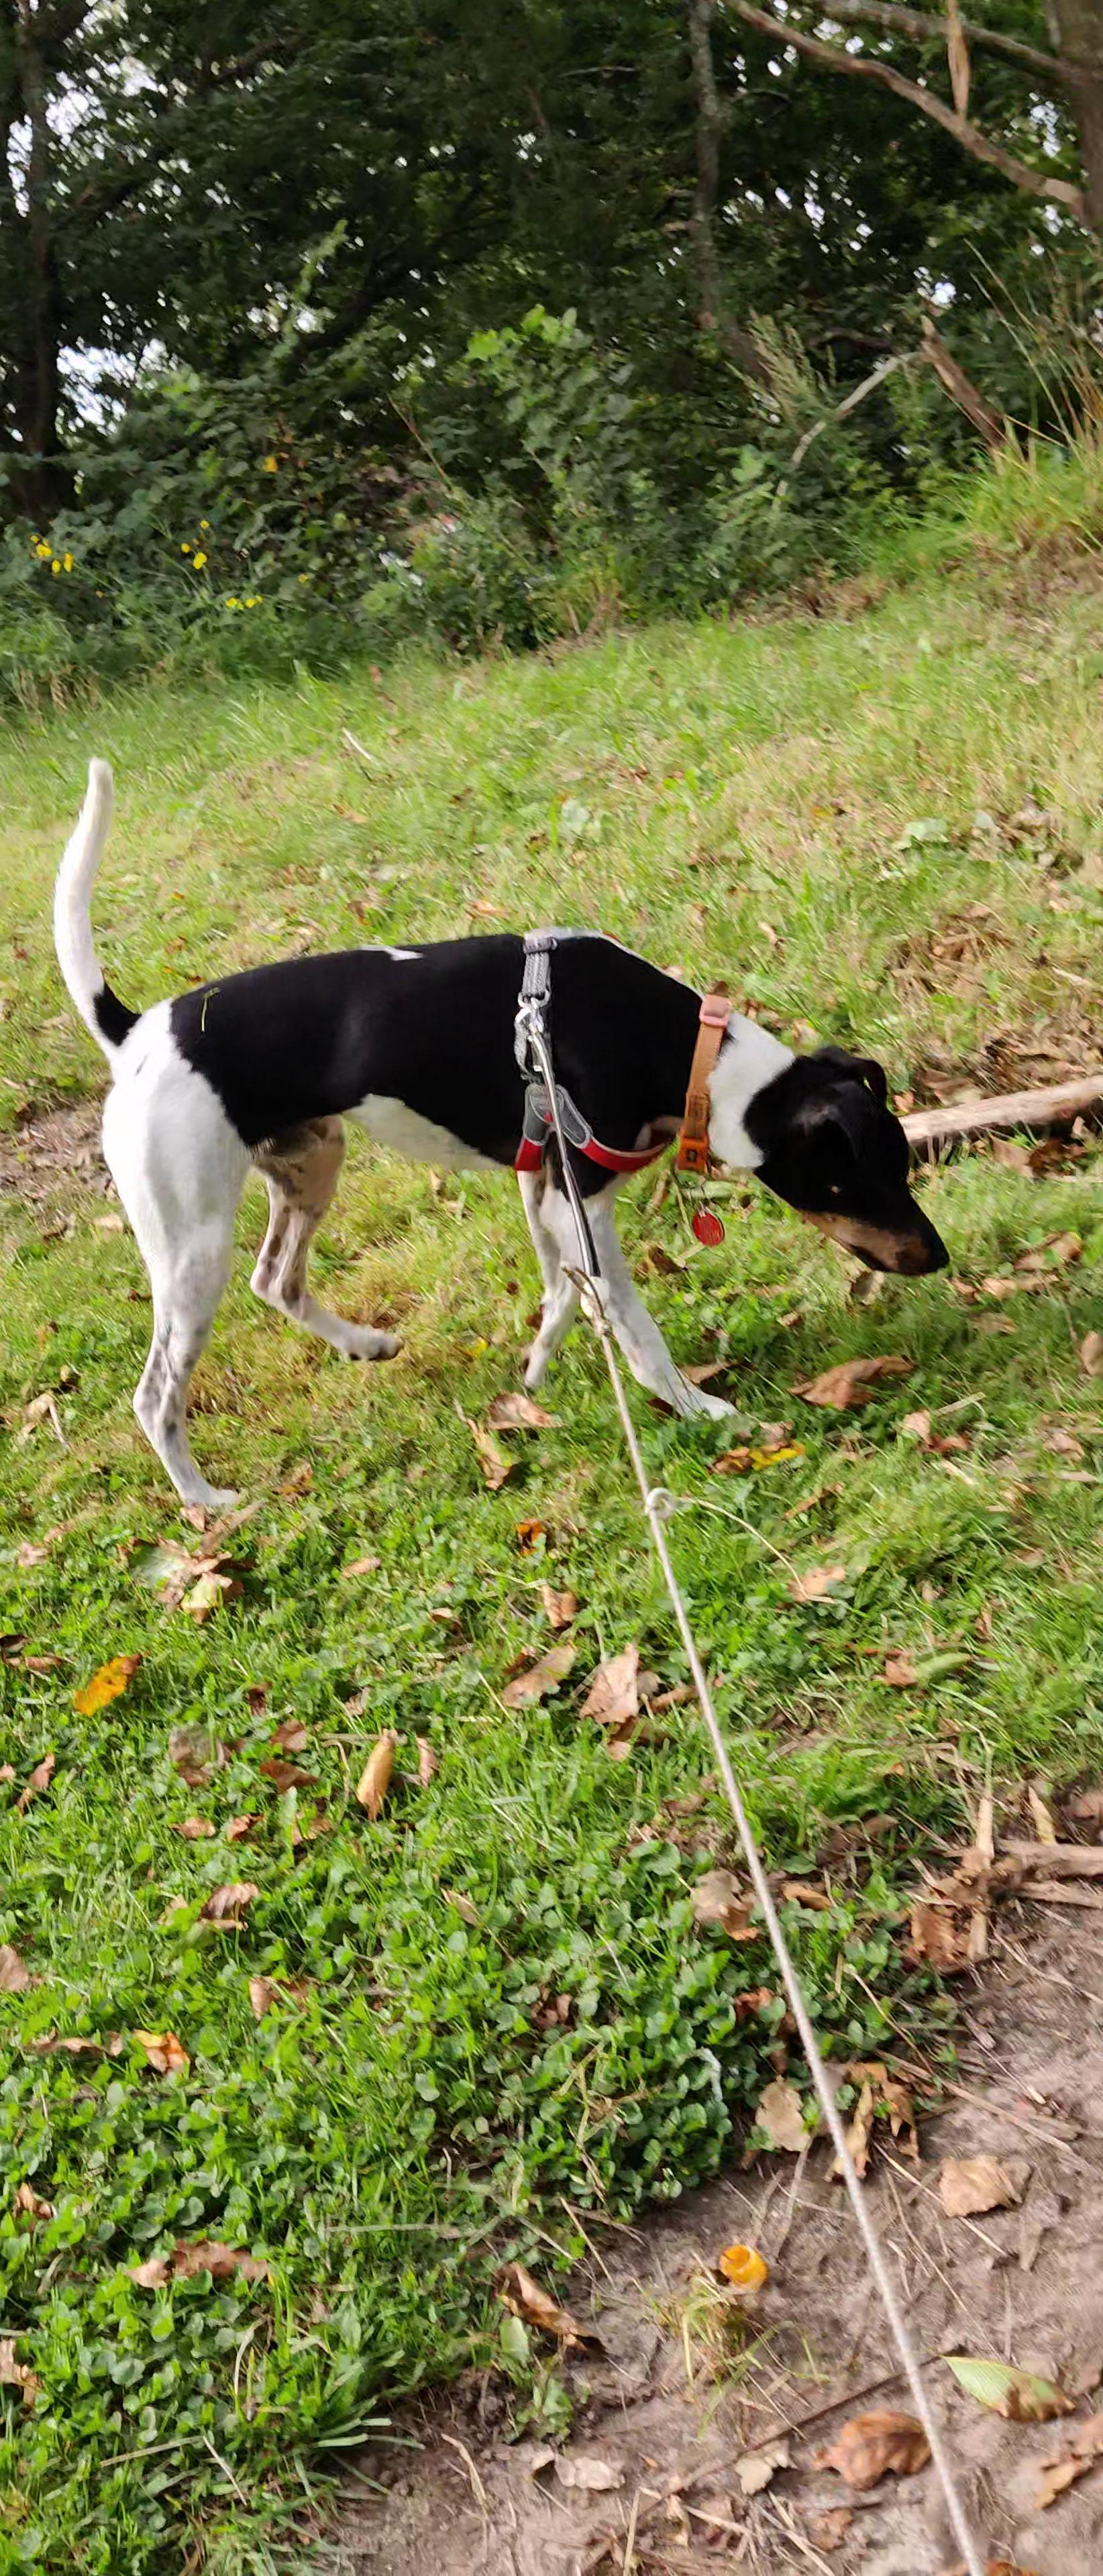Dog: (41, 728, 950, 1551)
